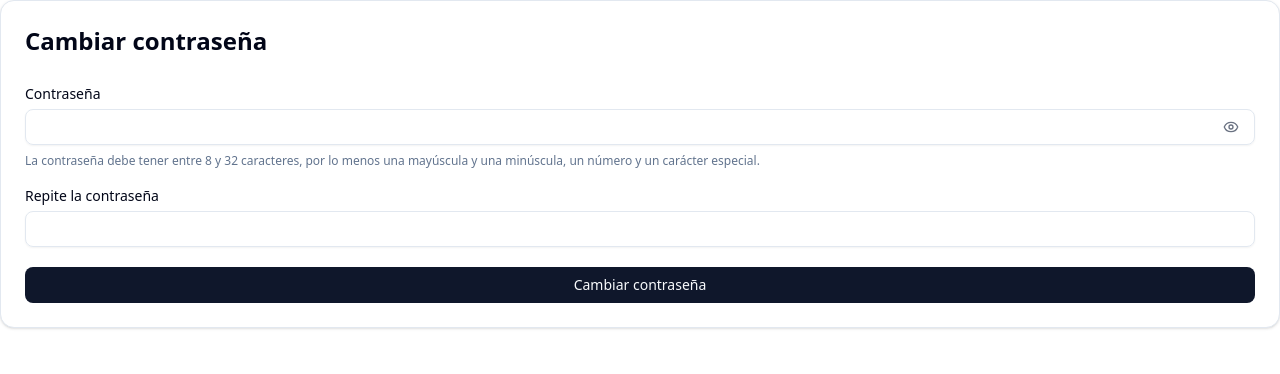
Test case: PasswordResetForm › muestra error si la contraseña no cumple requisitos
In the password field labelled "Contraseña": point(640, 127) x1=25 y1=109 x2=1255 y2=145, type "abc"
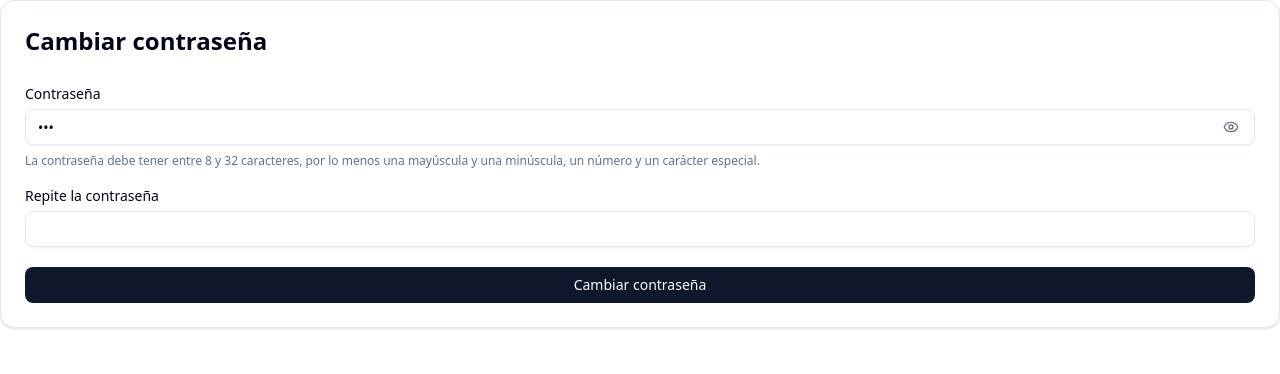
In the password field labelled "Repite la contraseña": point(640, 229) x1=25 y1=211 x2=1255 y2=247, type "abc"
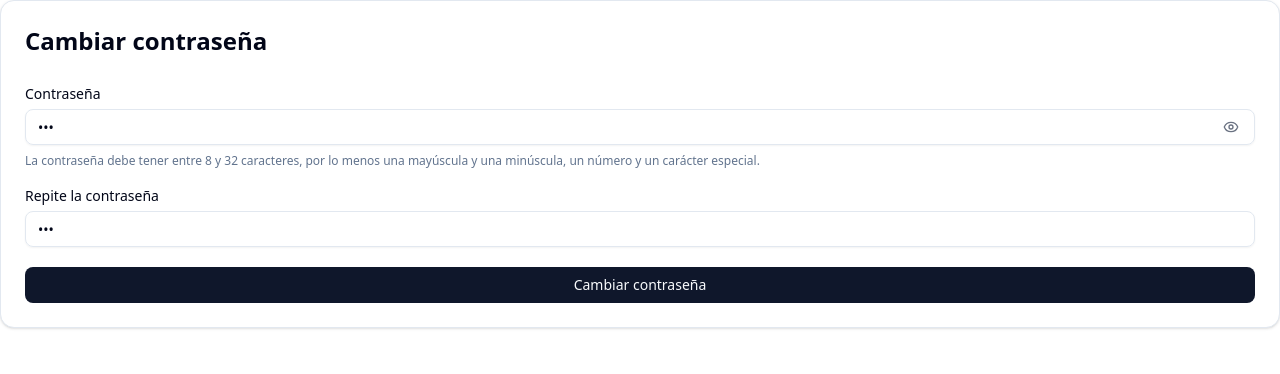
Click the button "Cambiar contraseña": point(640, 285) x1=25 y1=267 x2=1255 y2=303
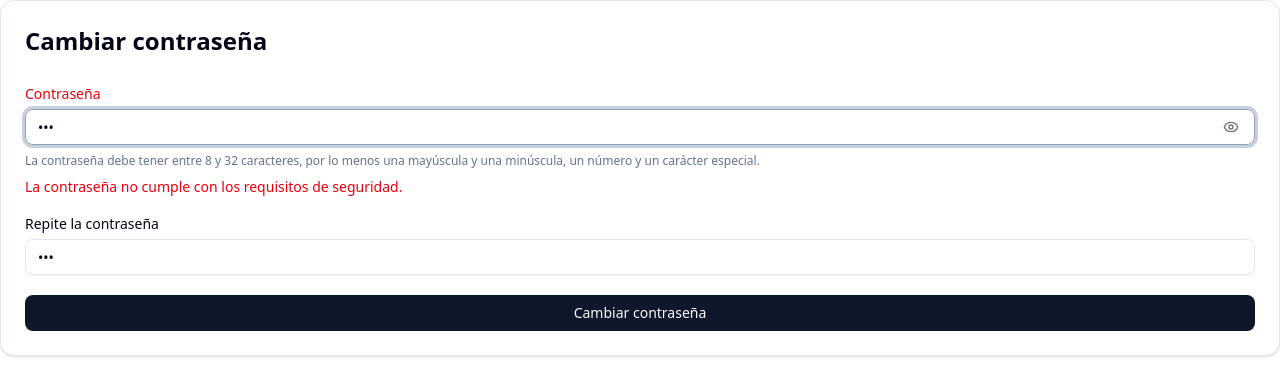
Expected: the text "La contraseña no cumple con los requisitos de seguridad." is shown, x1=25 y1=177 x2=402 y2=196
